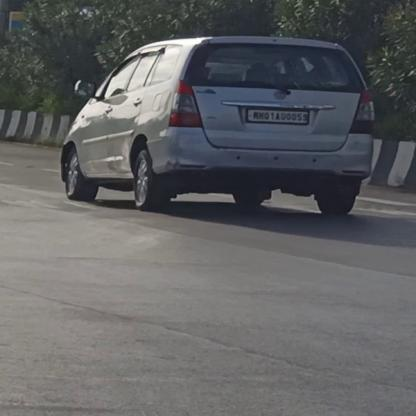license_plate: (246, 107, 310, 124)
